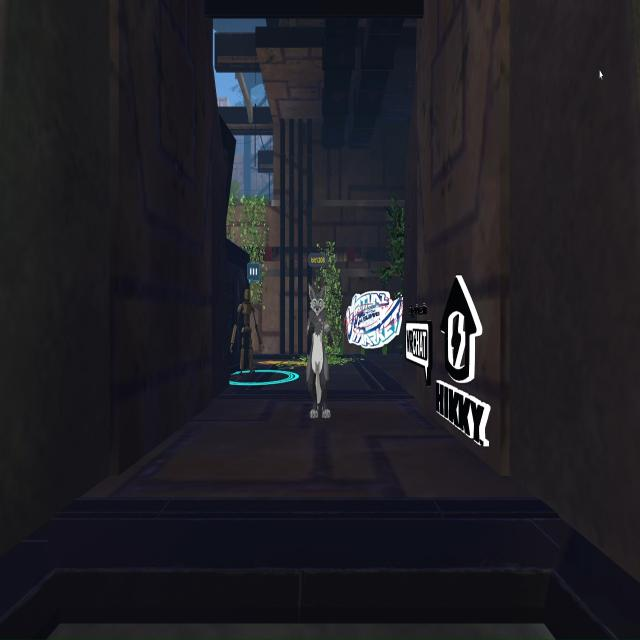human: (299, 278, 336, 429)
